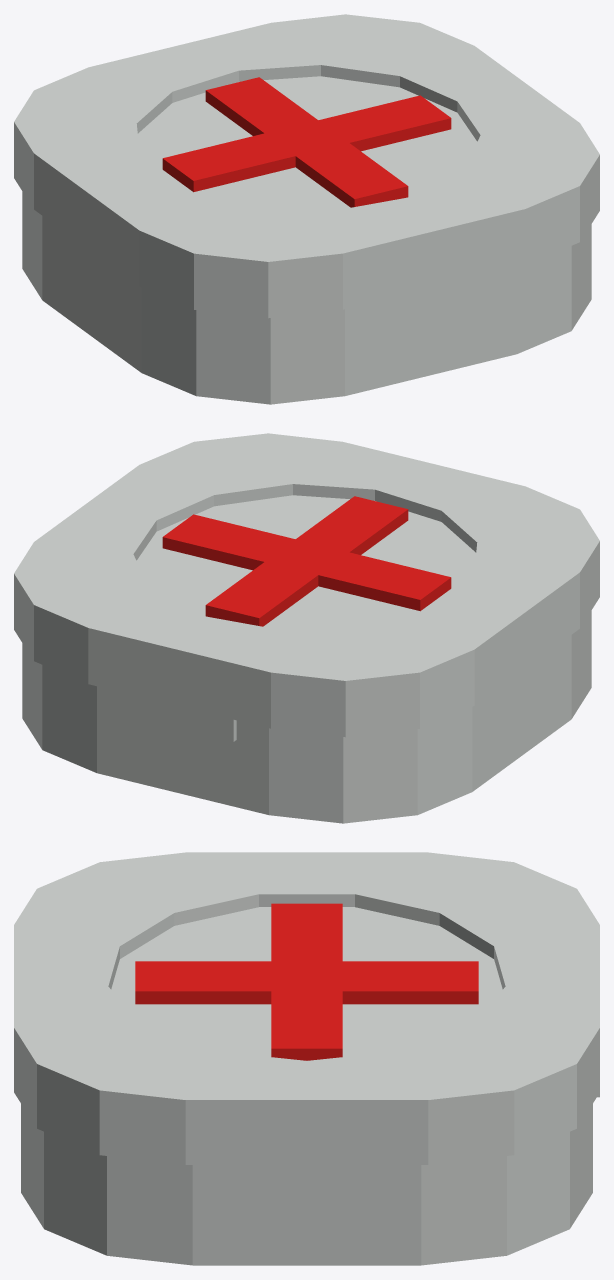
The model's file is Healing-Item-Pack.fbx.
The picture shows the model from 3 angles, top to bottom: view 1: azimuth 30°, elevation 25°; view 2: azimuth 150°, elevation 25°; view 3: azimuth 270°, elevation 25°; orthographic projection. The views are drawn at different scales.
Visible parts, largest first — view 1: Healing-Item-Pack; view 2: Healing-Item-Pack; view 3: Healing-Item-Pack.
Part boxes in pixels (x1,y1,x2,y2): Healing-Item-Pack: (14, 14, 599, 404); Healing-Item-Pack: (14, 433, 599, 823); Healing-Item-Pack: (14, 852, 599, 1265).
Size of the model in its own units: 205 by 65 by 205.
